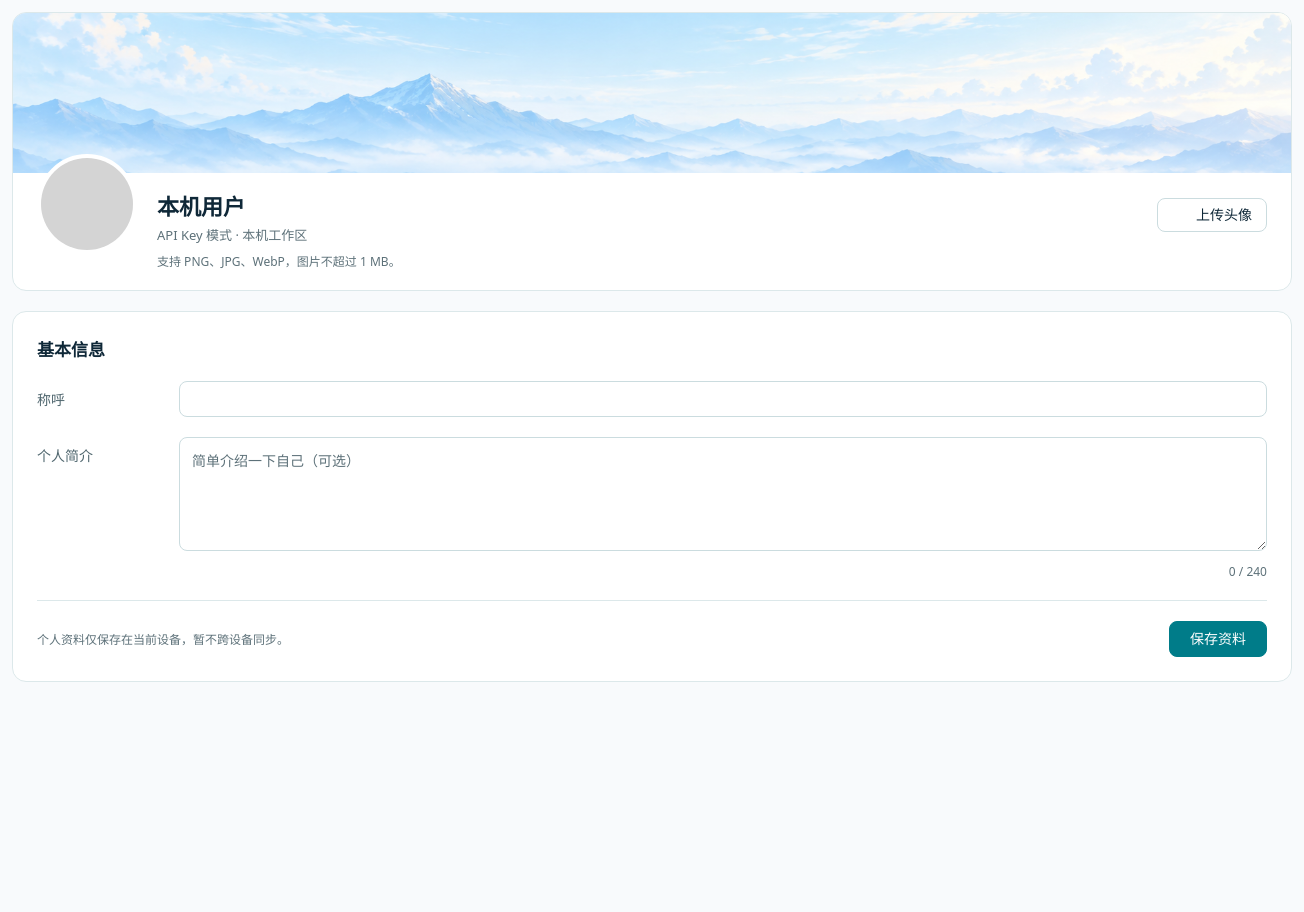
Scenario: ProfileSettingsPanel › 在本机空间保存个人资料，不显示平台账号信息
This screenshot has width=1304, height=912.
Type "三月七" into the field labelled "称呼". click: (723, 399)
box: [179,381,1267,417]
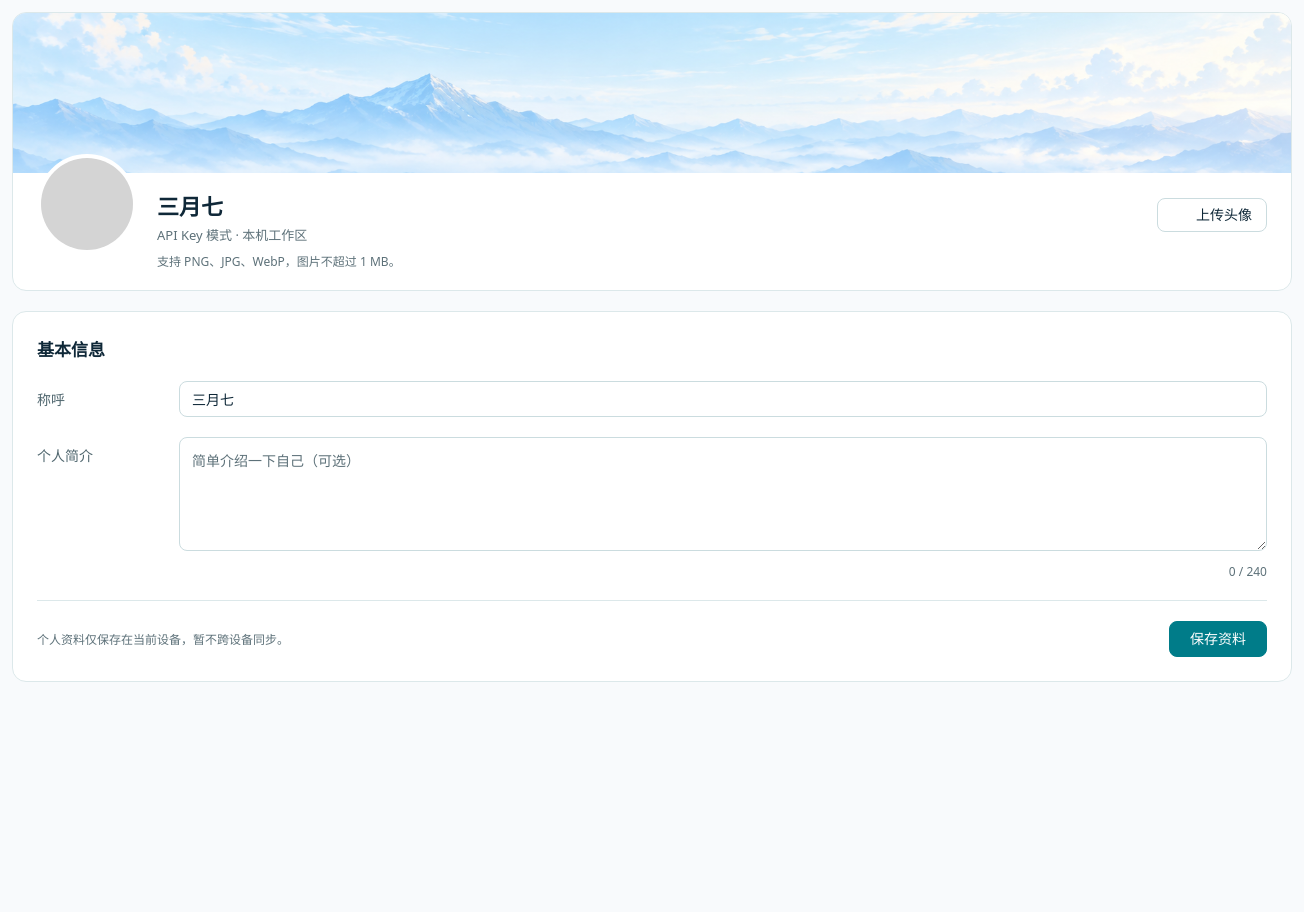
Type "本地工作台用户" into the text box labelled "个人简介 0 / 240". click: (723, 494)
box: [179,437,1267,551]
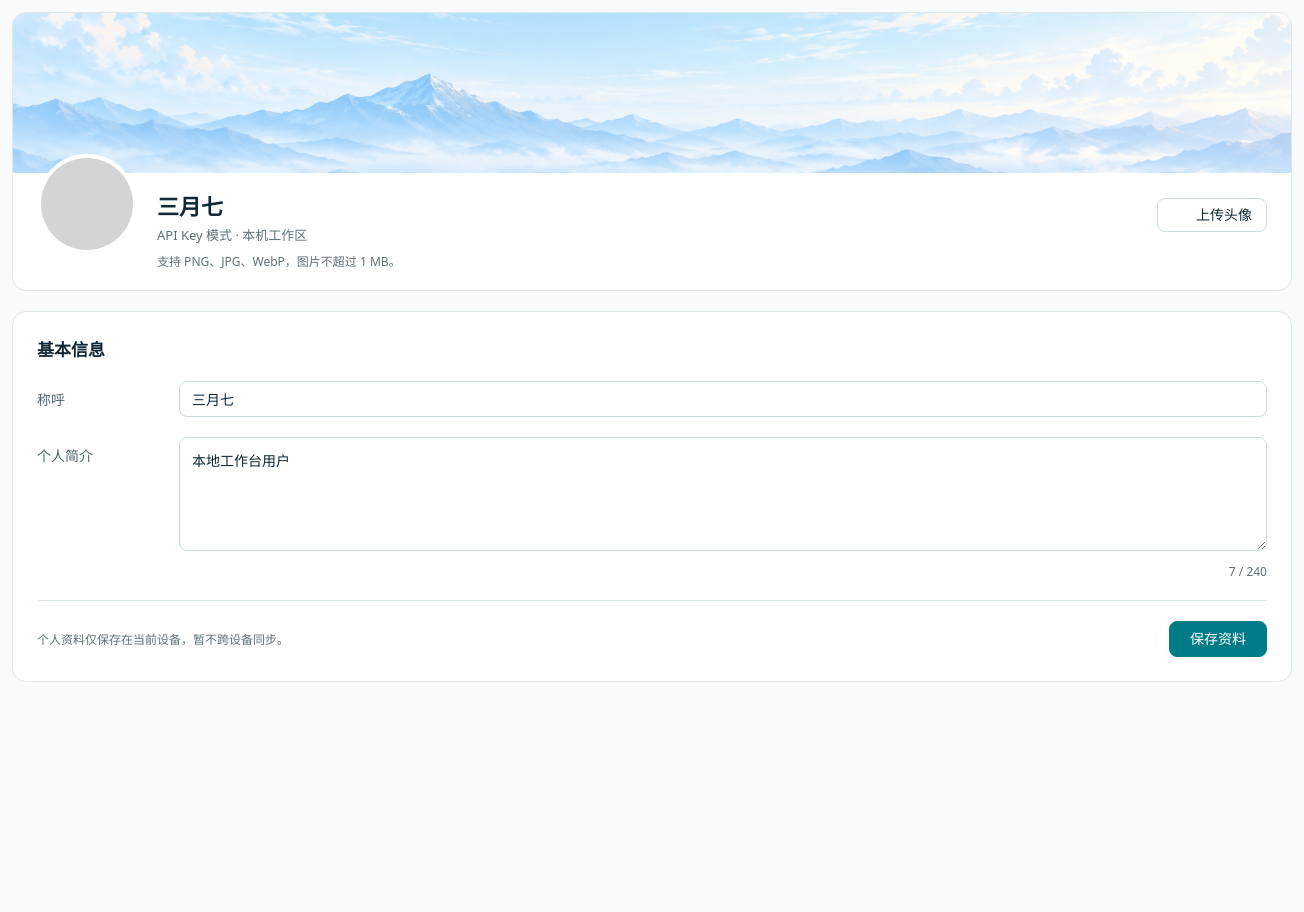
Click the button with test id "profile-save". click: (1218, 639)
box: [1169,621,1267,657]
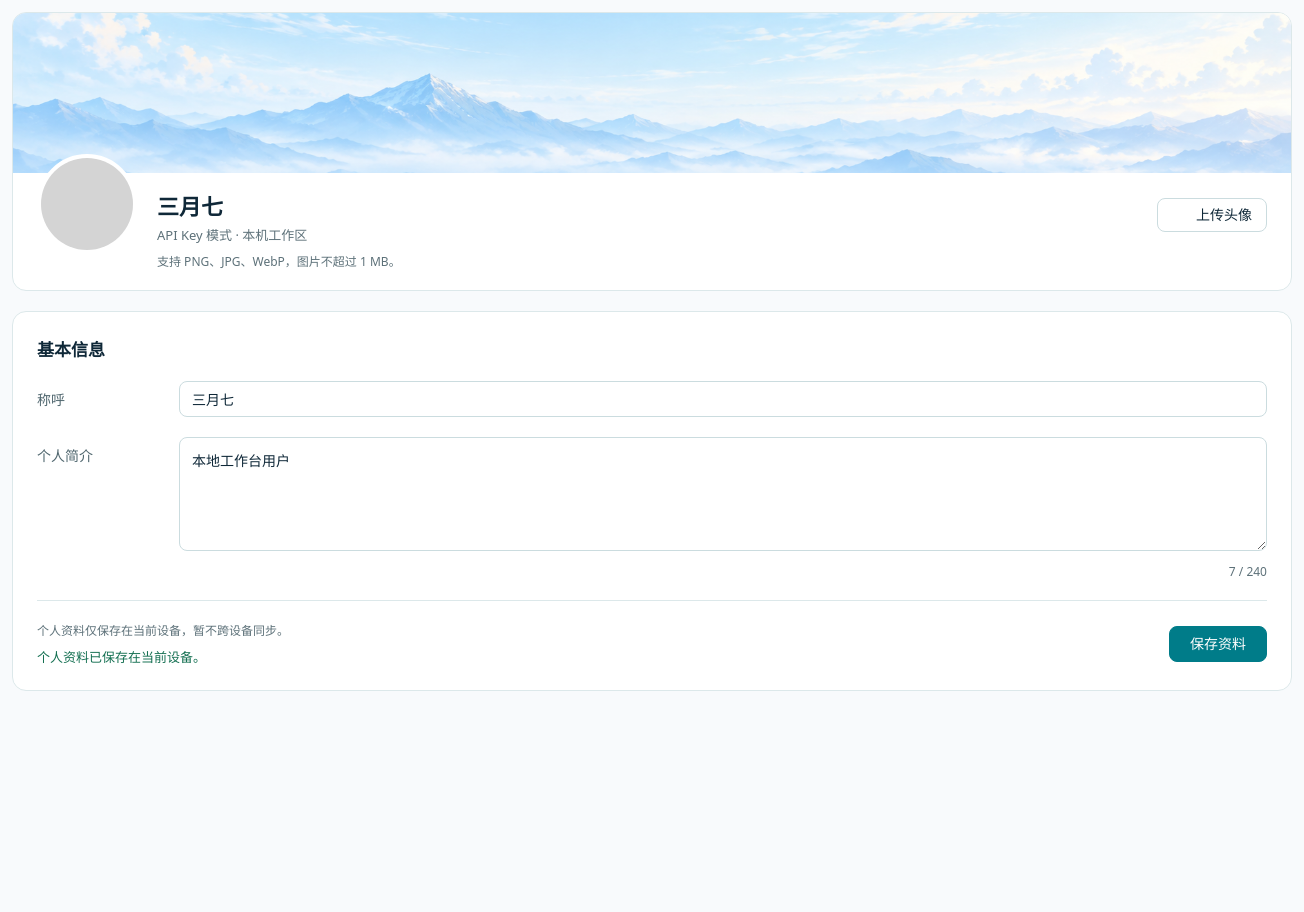
Expected: the text "个人资料已保存在当前设备" is shown, [37,648,206,666]
